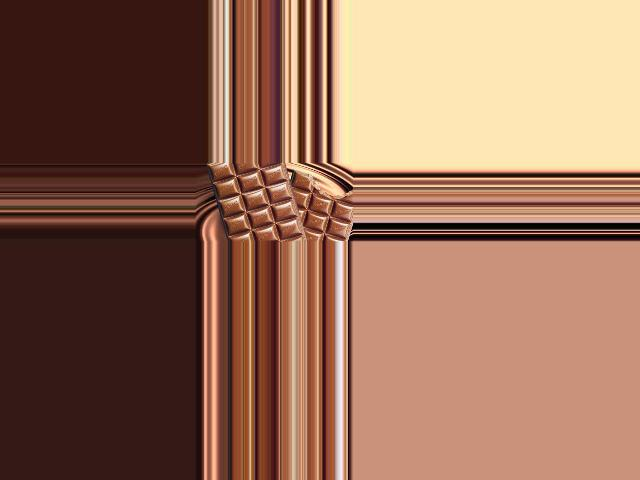chocolate: (204, 164, 307, 242)
